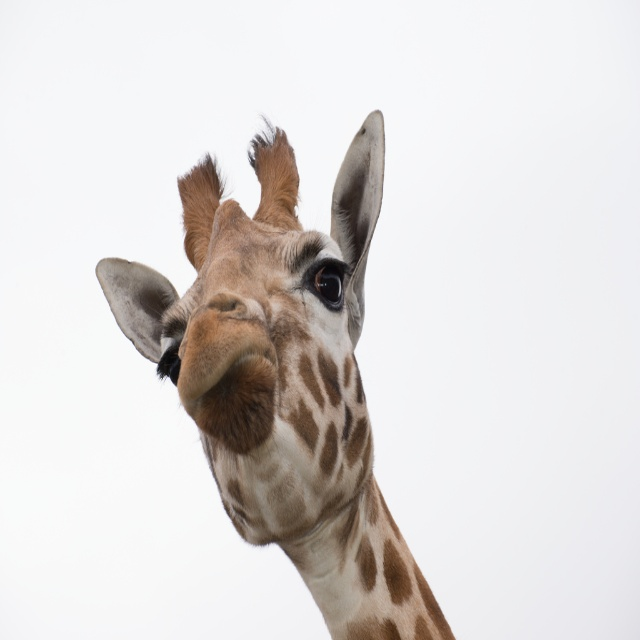Giraffe: (94, 108, 455, 639)
